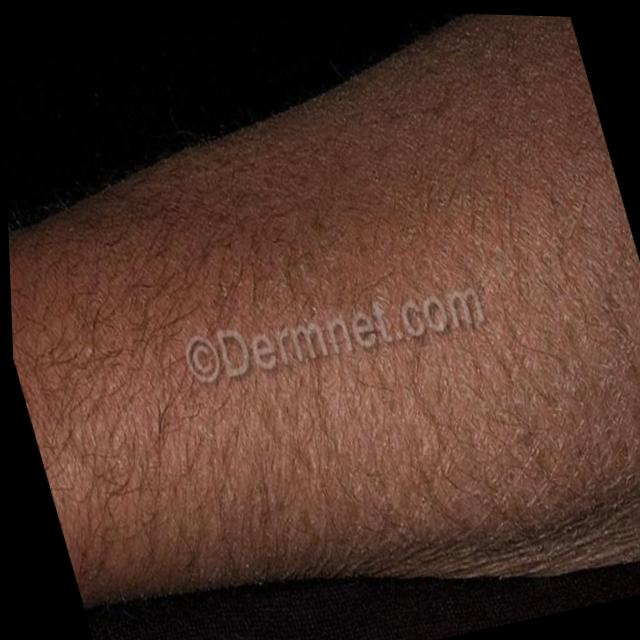liquenificacion 1: (9, 14, 640, 610)
